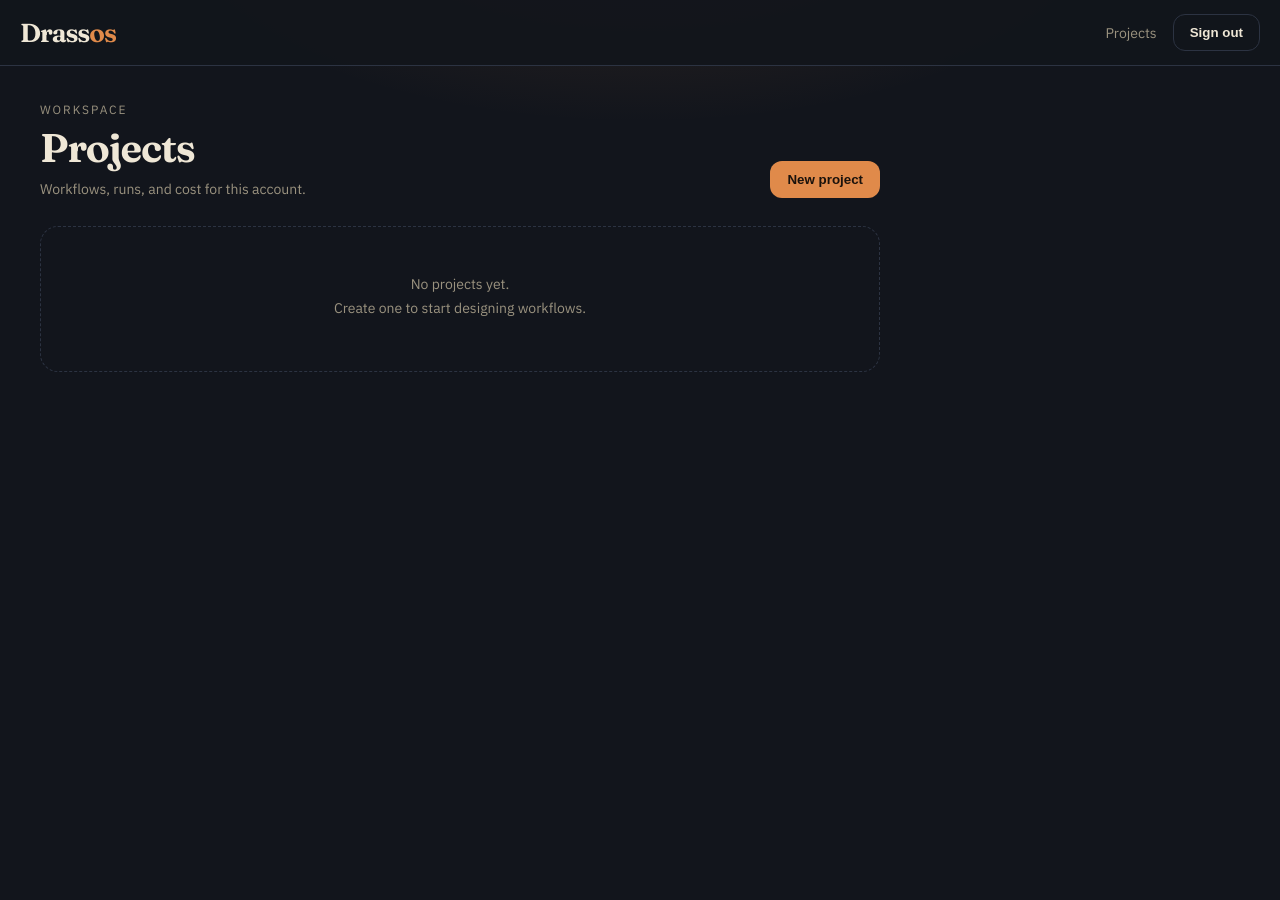
it: designer session routing › creates a project from a dialog
Expected: the heading "Projects" is shown, [40, 123, 195, 172]
Expected: the field labelled "project name" is not shown
Click the button "New project" at (825, 180), box [770, 161, 880, 198]
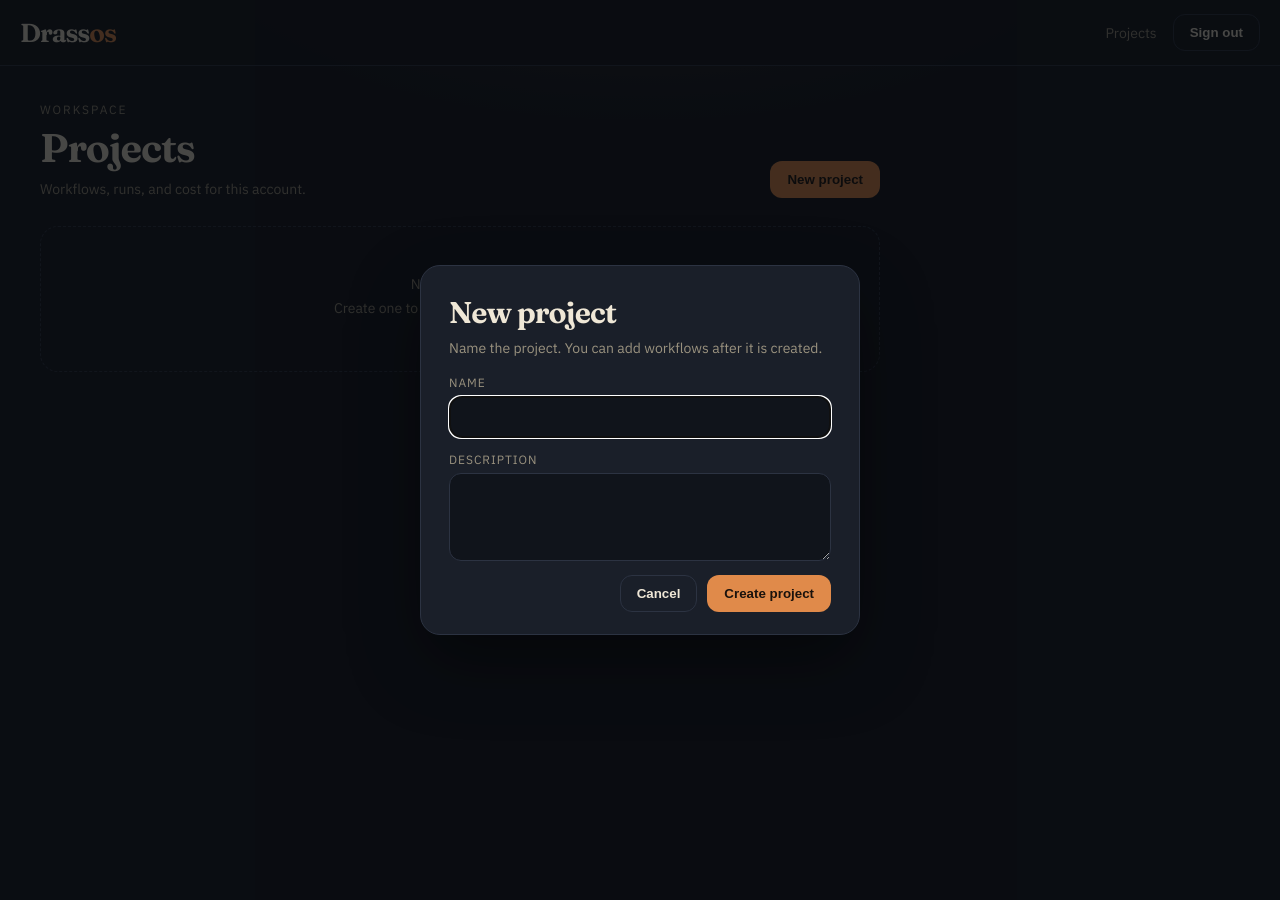
Expected: the dialog "New project" is shown, [420, 265, 860, 635]
Click the button "Cancel" at (658, 594), box [620, 575, 697, 612]
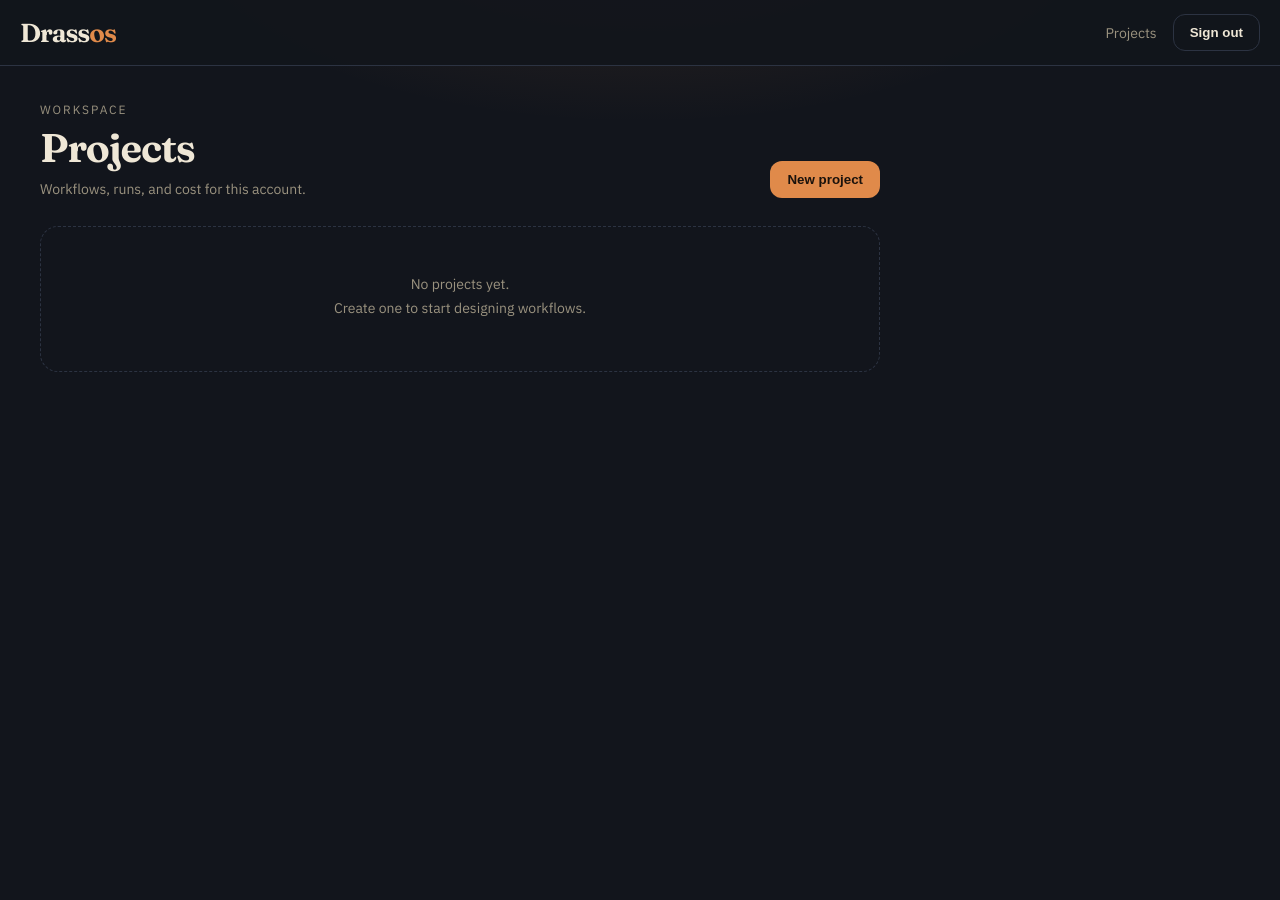
Expected: the dialog is gone
Click the button "New project" at (825, 180), box [770, 161, 880, 198]
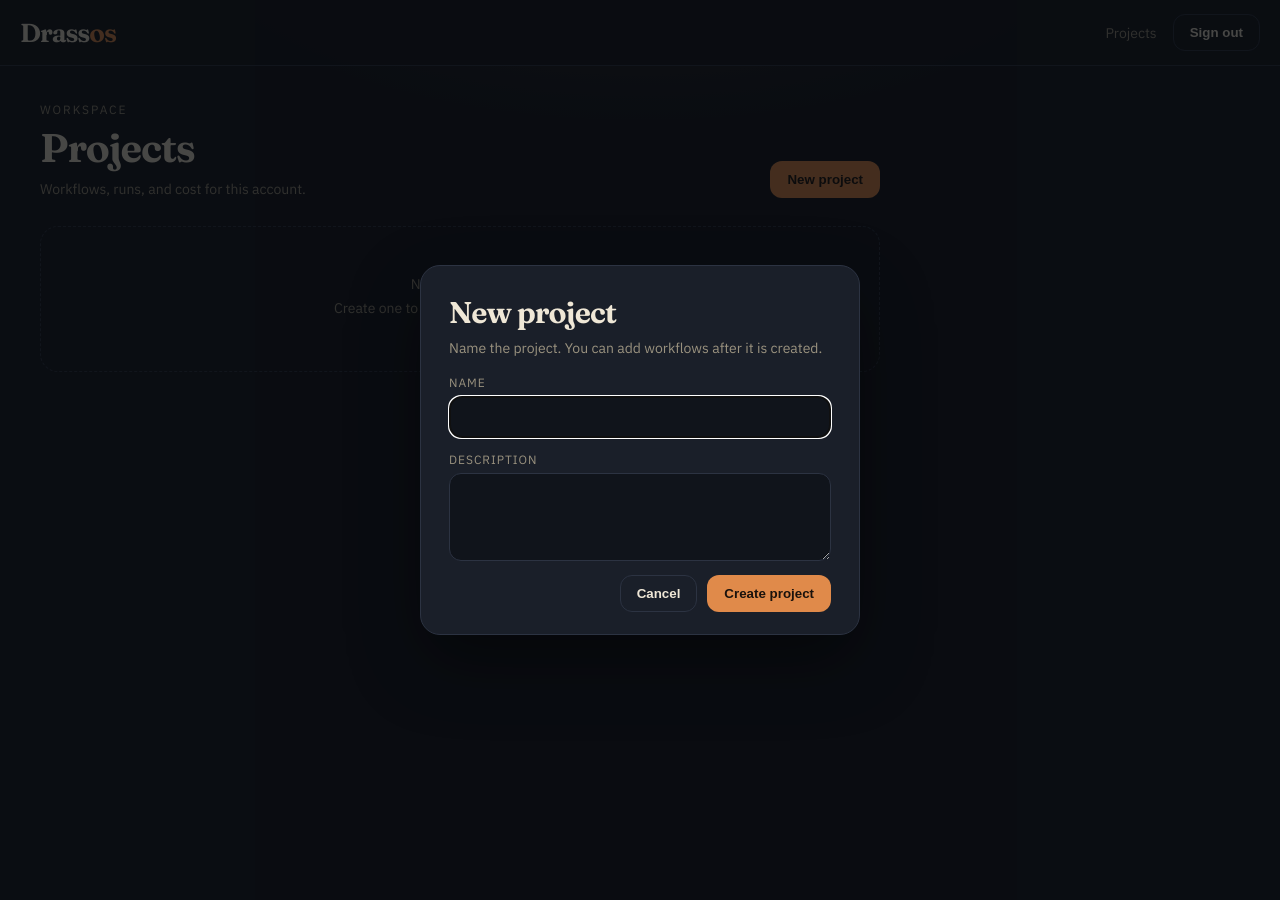
Type "Orders" into the field labelled "Name" at (640, 417), box [449, 396, 831, 438]
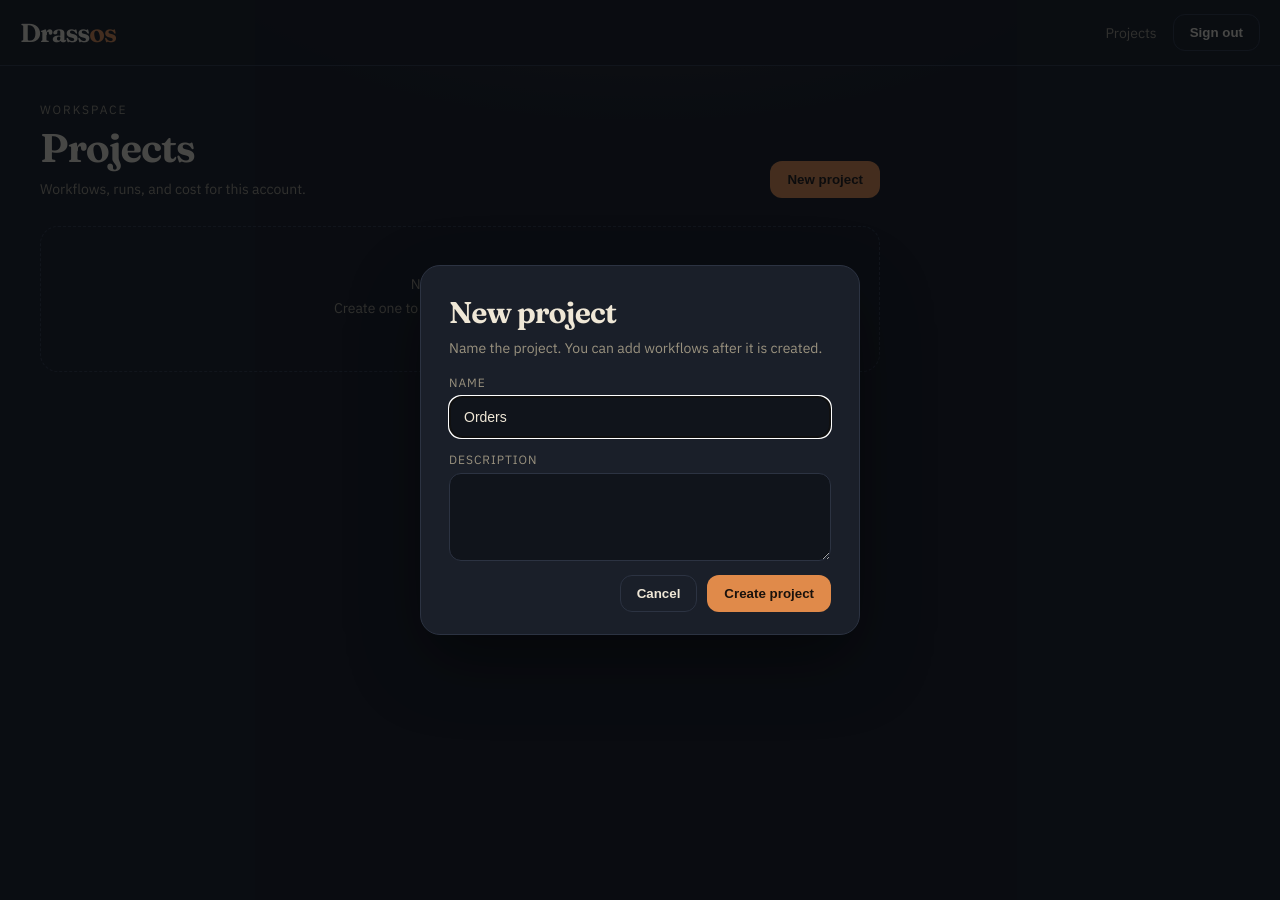
Type "Dinner service" into the text box labelled "Description" at (640, 517), box [449, 473, 831, 561]
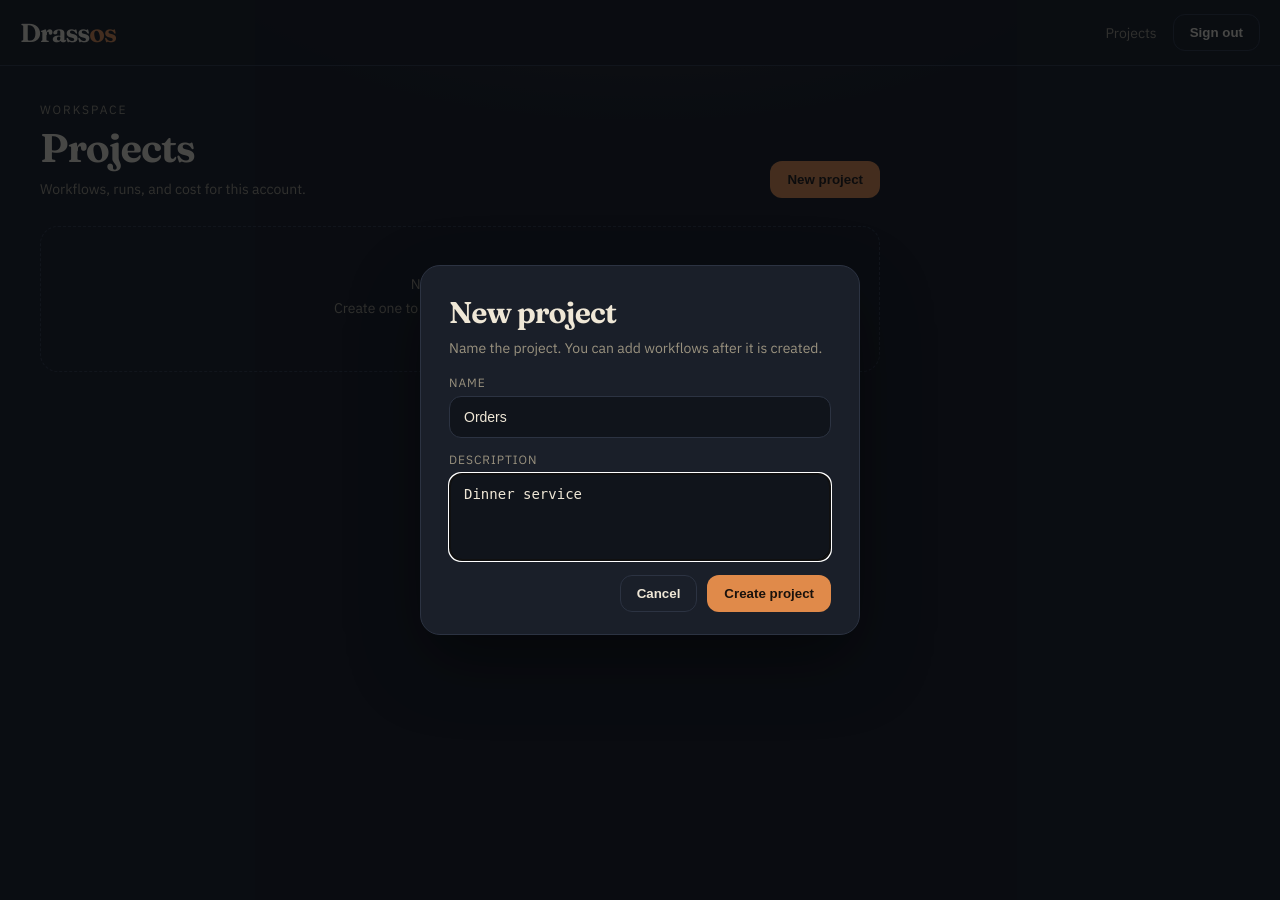
Click the button "Create project" at (769, 594), box [707, 575, 831, 612]
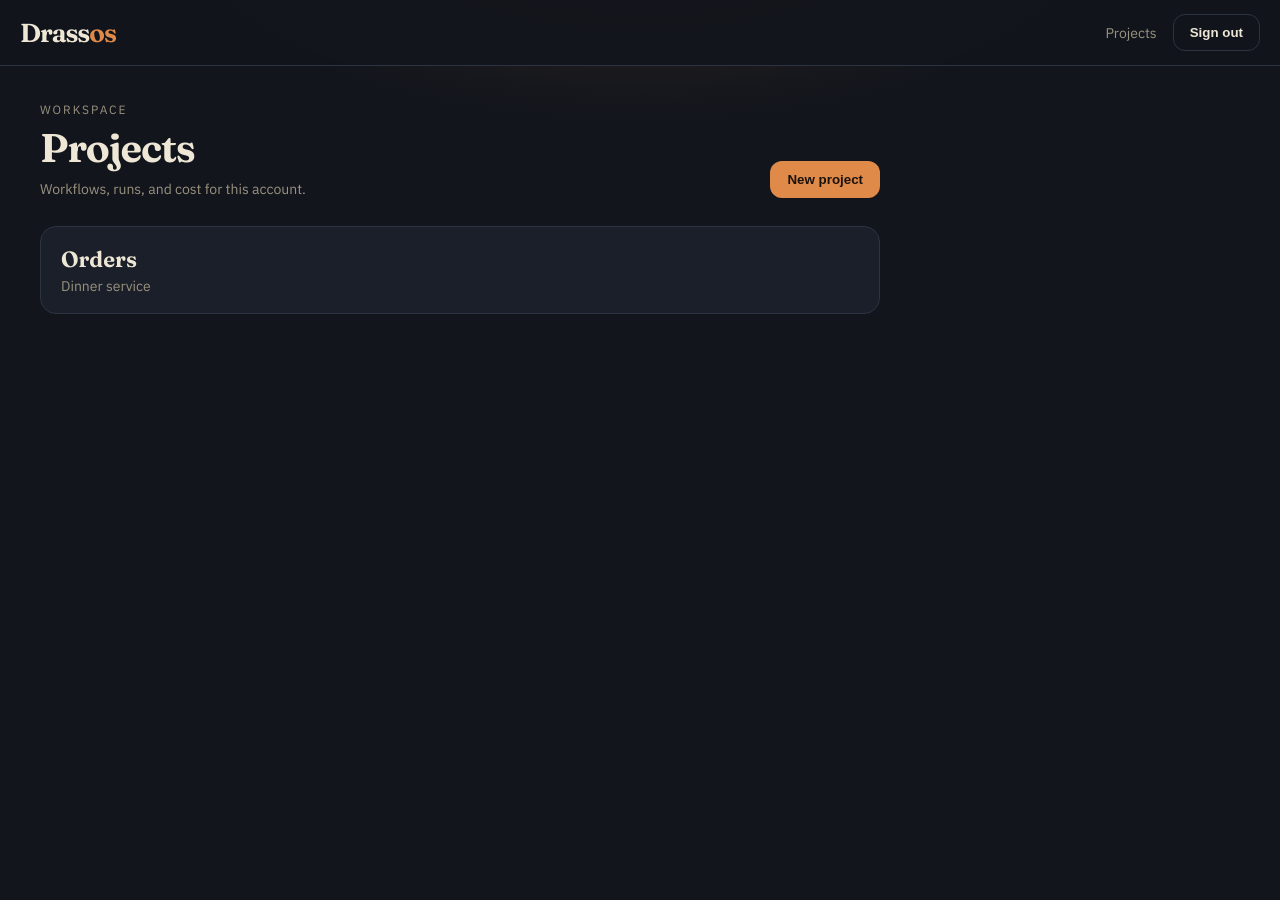
Expected: the link "Orders Dinner service" is shown, [40, 226, 880, 314]
Expected: the text "Dinner service" is shown, [61, 277, 151, 295]
Expected: the dialog is gone
